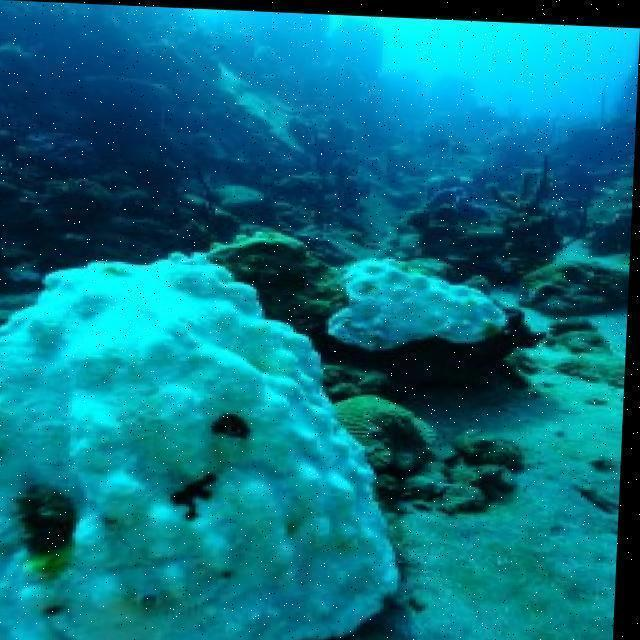Bleached Coral: (0, 226, 414, 640), (290, 199, 534, 387)
